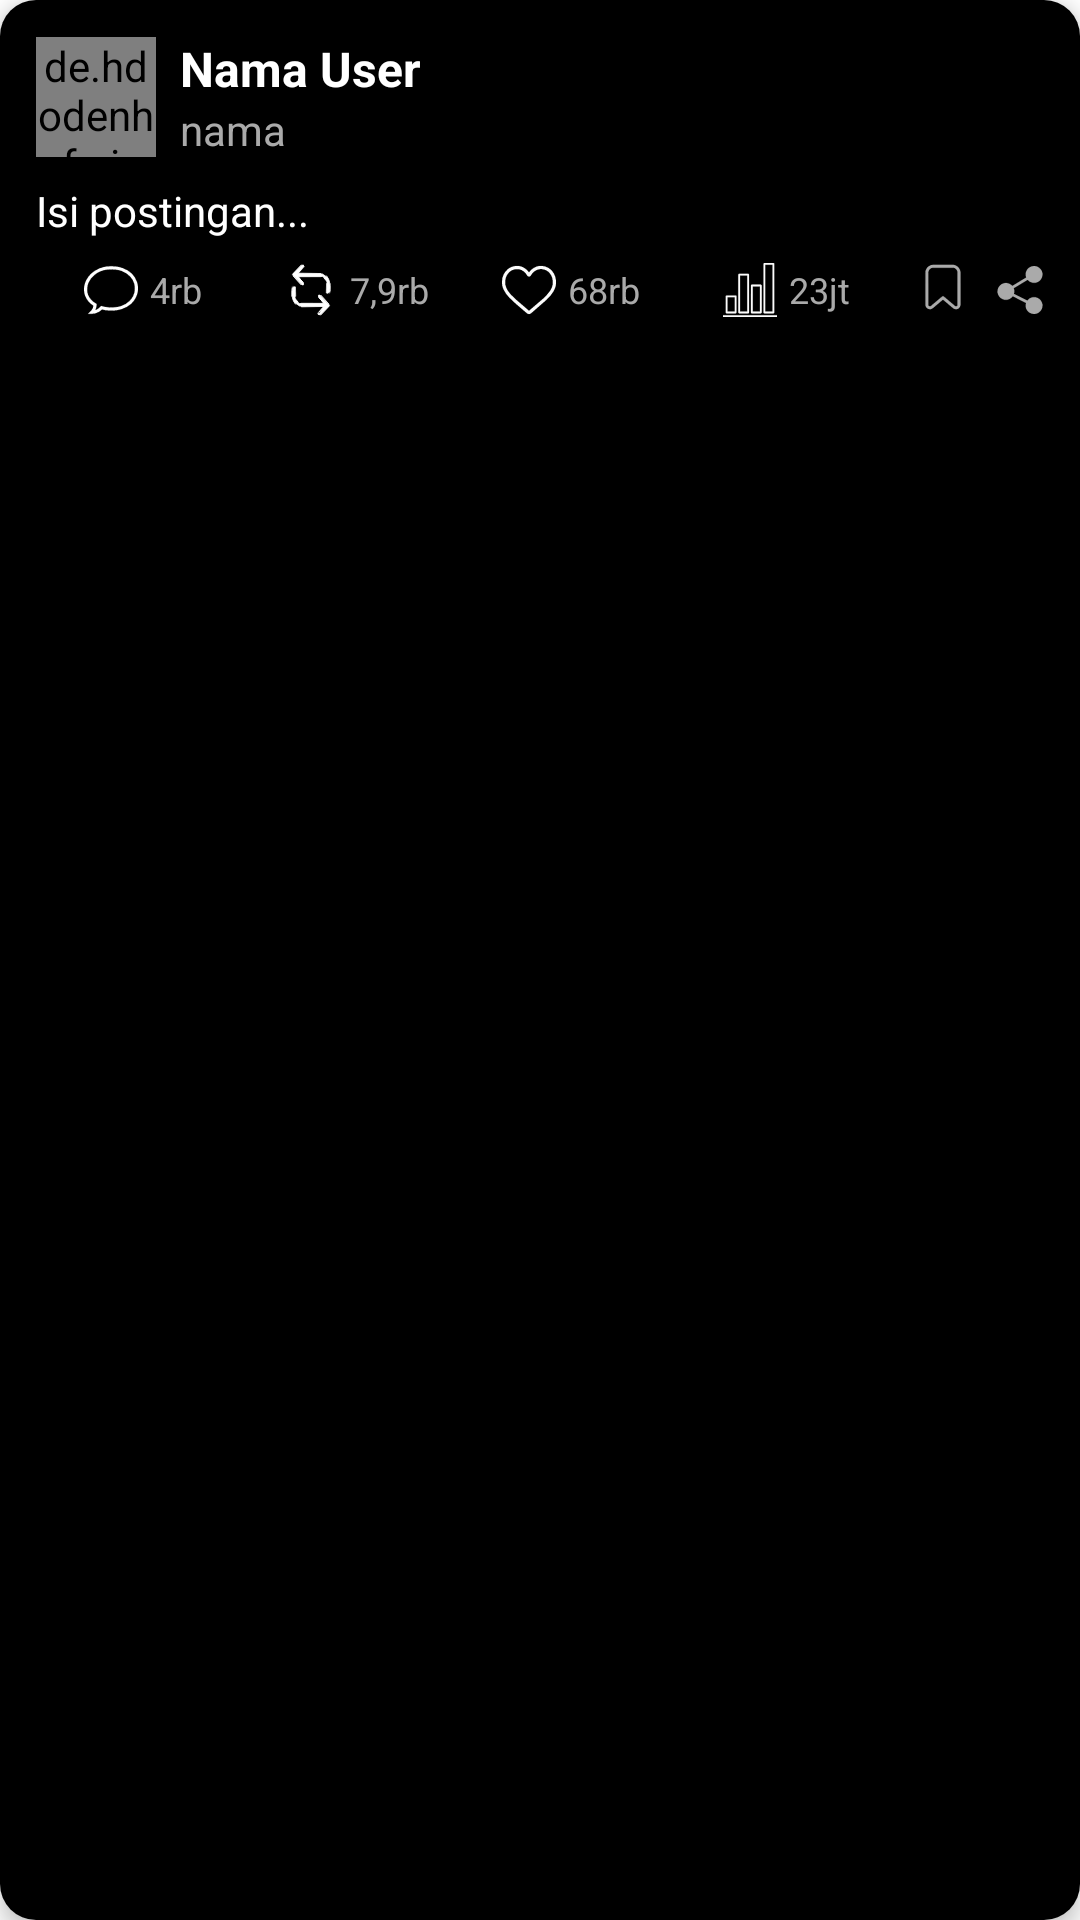

Screen size 1080 x 1920. Icon name, then its center in pixels as (x,y):
bookmark: (943,287)
comment: (111,290)
like: (529,290)
retweet: (311,290)
share: (1020,290)
statistic: (750,290)
